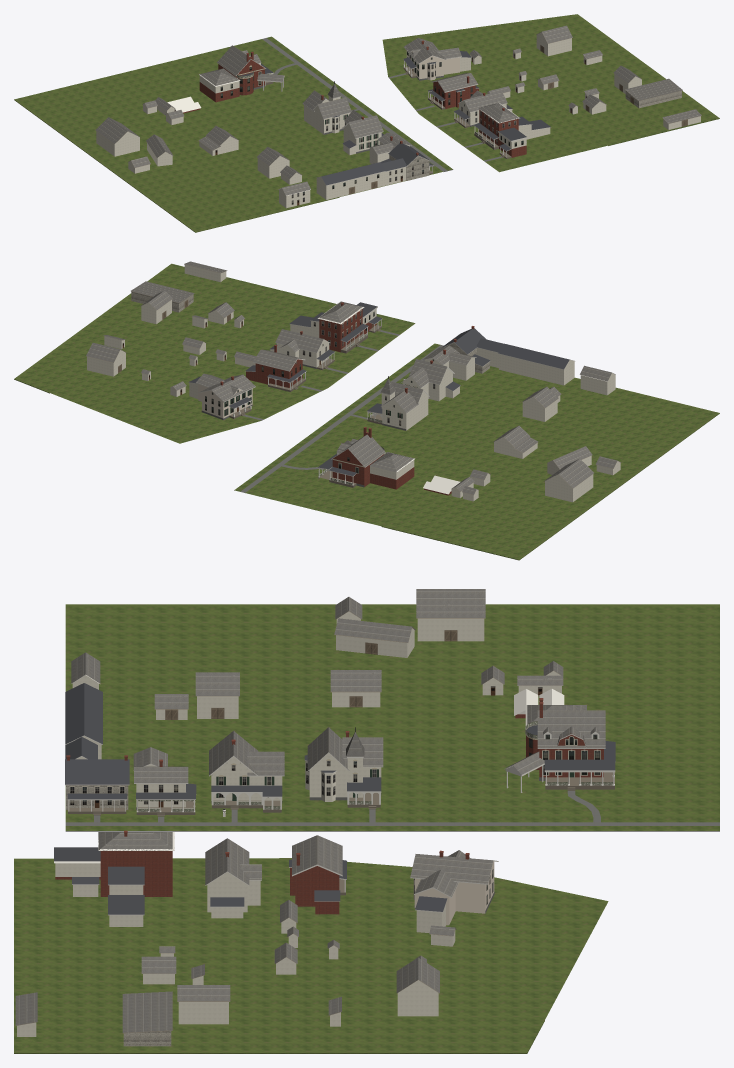
File: north-approach.glb
3 views of the same model, one above another, from view 1: azimuth 30°, elevation 25°; view 2: azimuth 150°, elevation 25°; view 3: azimuth 270°, elevation 25° (orthographic). The views are drawn at different scales.
Parts seen in each view (by area): view 1: NorthApproach; view 2: NorthApproach; view 3: NorthApproach.
Boxes of the visible parts, x1,y1,x2,y2 form: NorthApproach: [14, 14, 719, 232]; NorthApproach: [14, 261, 719, 560]; NorthApproach: [14, 589, 719, 1053].
Size of the model in its own units: 205 by 15.1 by 136.
8 materials, 8 textured.
